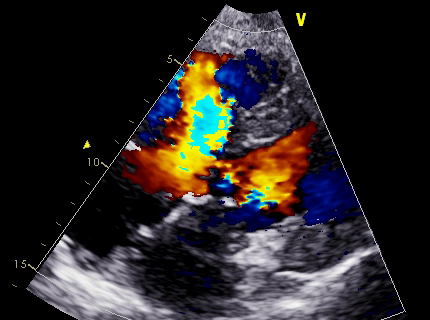TR: (157, 151, 226, 214)
